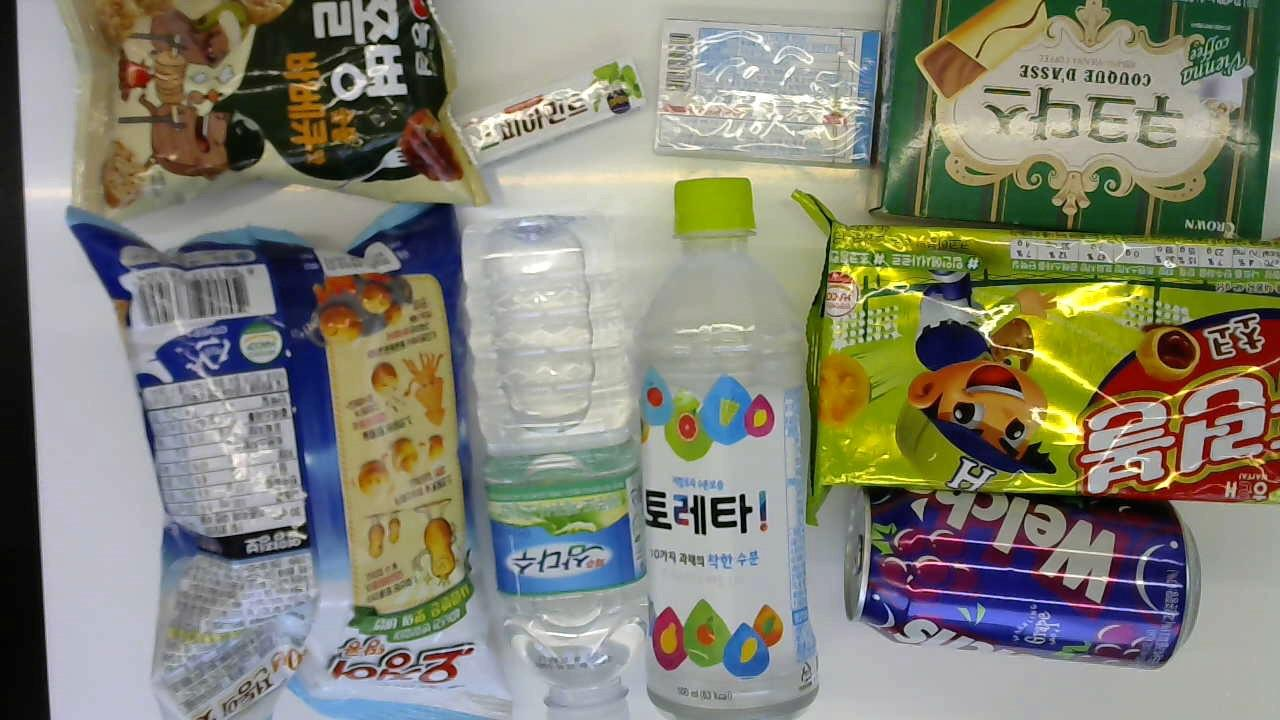ID_gum: (652, 19, 882, 172)
couque_coffee: (869, 0, 1280, 225)
homerunball: (785, 186, 1279, 529)
jjolbyung_ori: (53, 0, 505, 209)
samdasu: (471, 194, 628, 720)
spearmint: (454, 58, 644, 173)
squid_peanut: (66, 200, 520, 720)
toreta: (635, 176, 833, 720)
welchs: (847, 467, 1200, 672)
